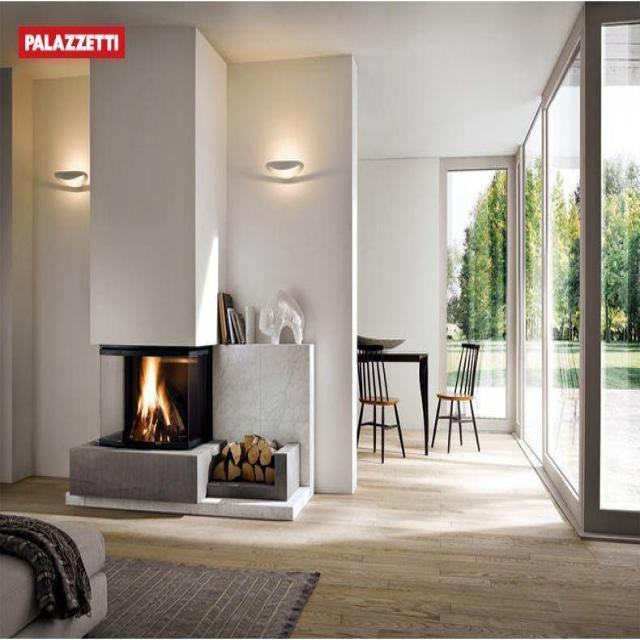Fire: (134, 356, 171, 442)
